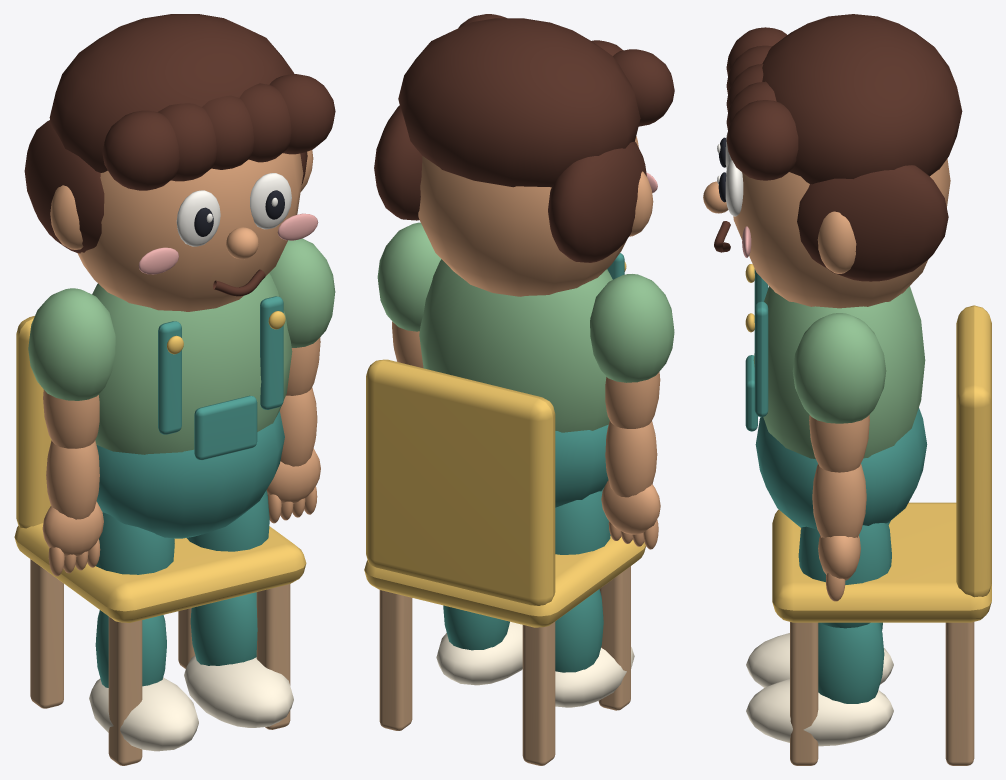
File: daddy-sit.glb
3 renders of one model, left to right at view 1: azimuth 30°, elevation 25°; view 2: azimuth 150°, elevation 25°; view 3: azimuth 270°, elevation 25°, orthographic. The views are drawn at different scales.
Visible parts, largest first — view 1: hair cap, clay head, soft shirt, overalls, chair seat, shirt sleeve, little shoe.001, bob hair, chair back, fringe, shirt sleeve.001, little shoe (+28 smaller); view 2: chair back, hair cap, soft shirt, clay head, bob hair, chair seat, shirt sleeve, shirt sleeve.001, chair leg.001, chair leg.003, bob hair.001, overalls (+12 smaller); view 3: hair cap, chair seat, soft shirt, bob hair.001, clay head, chair back, shirt sleeve.001, overalls, little shoe.001, lower leg.001, fringe.004, chair leg.003 (+15 smaller).
Boxes of the visible parts, <box> form: hair cap: <box>49,14,294,172</box>; clay head: <box>77,153,303,311</box>; soft shirt: <box>92,273,292,454</box>; overalls: <box>96,411,284,538</box>; chair seat: <box>14,523,306,622</box>; shirt sleeve: <box>28,288,115,400</box>; little shoe.001: <box>184,655,293,727</box>; bob hair: <box>24,120,104,253</box>; chair back: <box>16,316,51,528</box>; fringe: <box>102,110,179,190</box>; shirt sleeve.001: <box>269,238,335,347</box>; little shoe: <box>89,677,198,751</box>; chair back: <box>366,359,555,605</box>; hair cap: <box>398,18,640,187</box>; soft shirt: <box>419,259,612,432</box>; clay head: <box>418,136,638,296</box>; bob hair: <box>548,141,646,262</box>; chair seat: <box>364,536,645,627</box>; shirt sleeve: <box>590,274,674,382</box>; shirt sleeve.001: <box>377,222,441,331</box>; chair leg.001: <box>522,622,555,765</box>; chair leg.003: <box>379,590,412,730</box>; bob hair.001: <box>374,105,422,220</box>; overalls: <box>555,424,608,507</box>; hair cap: <box>762,14,962,184</box>; chair seat: <box>772,502,991,622</box>; soft shirt: <box>753,286,925,458</box>; bob hair.001: <box>797,165,948,281</box>; clay head: <box>731,158,950,308</box>; chair back: <box>956,305,991,597</box>; shirt sleeve.001: <box>792,313,886,423</box>; overalls: <box>755,408,927,528</box>; little shoe.001: <box>746,679,893,746</box>; lower leg.001: <box>818,622,884,703</box>; fringe.004: <box>726,100,798,180</box>; chair leg.003: <box>945,622,974,765</box>.
Size of the model in its own units: 0.957 by 2.17 by 0.815.
